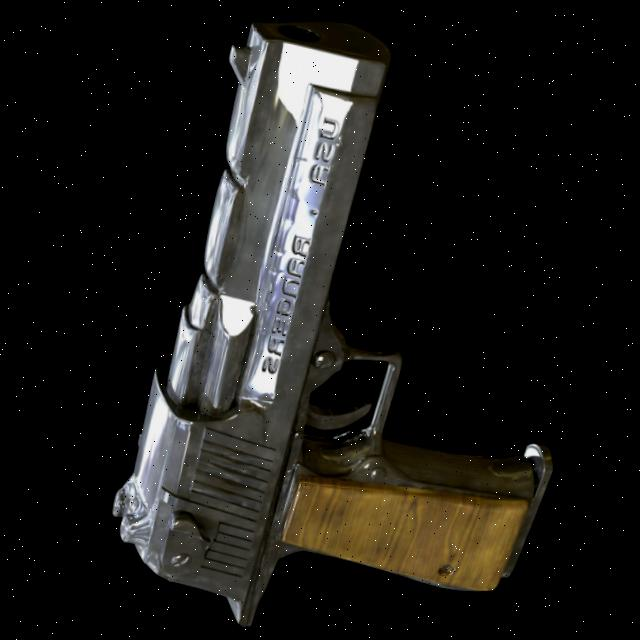pistol: (73, 5, 579, 640)
